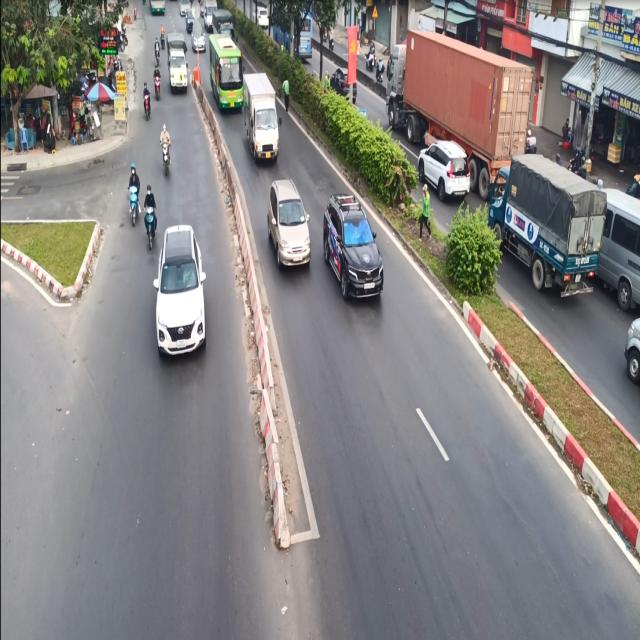bus: (208, 35, 246, 114)
car: (152, 220, 211, 366), (322, 186, 389, 309), (266, 178, 315, 286)
motor: (144, 175, 159, 259), (128, 156, 140, 236), (157, 121, 170, 173)
truck: (245, 68, 284, 173), (164, 27, 190, 92)
